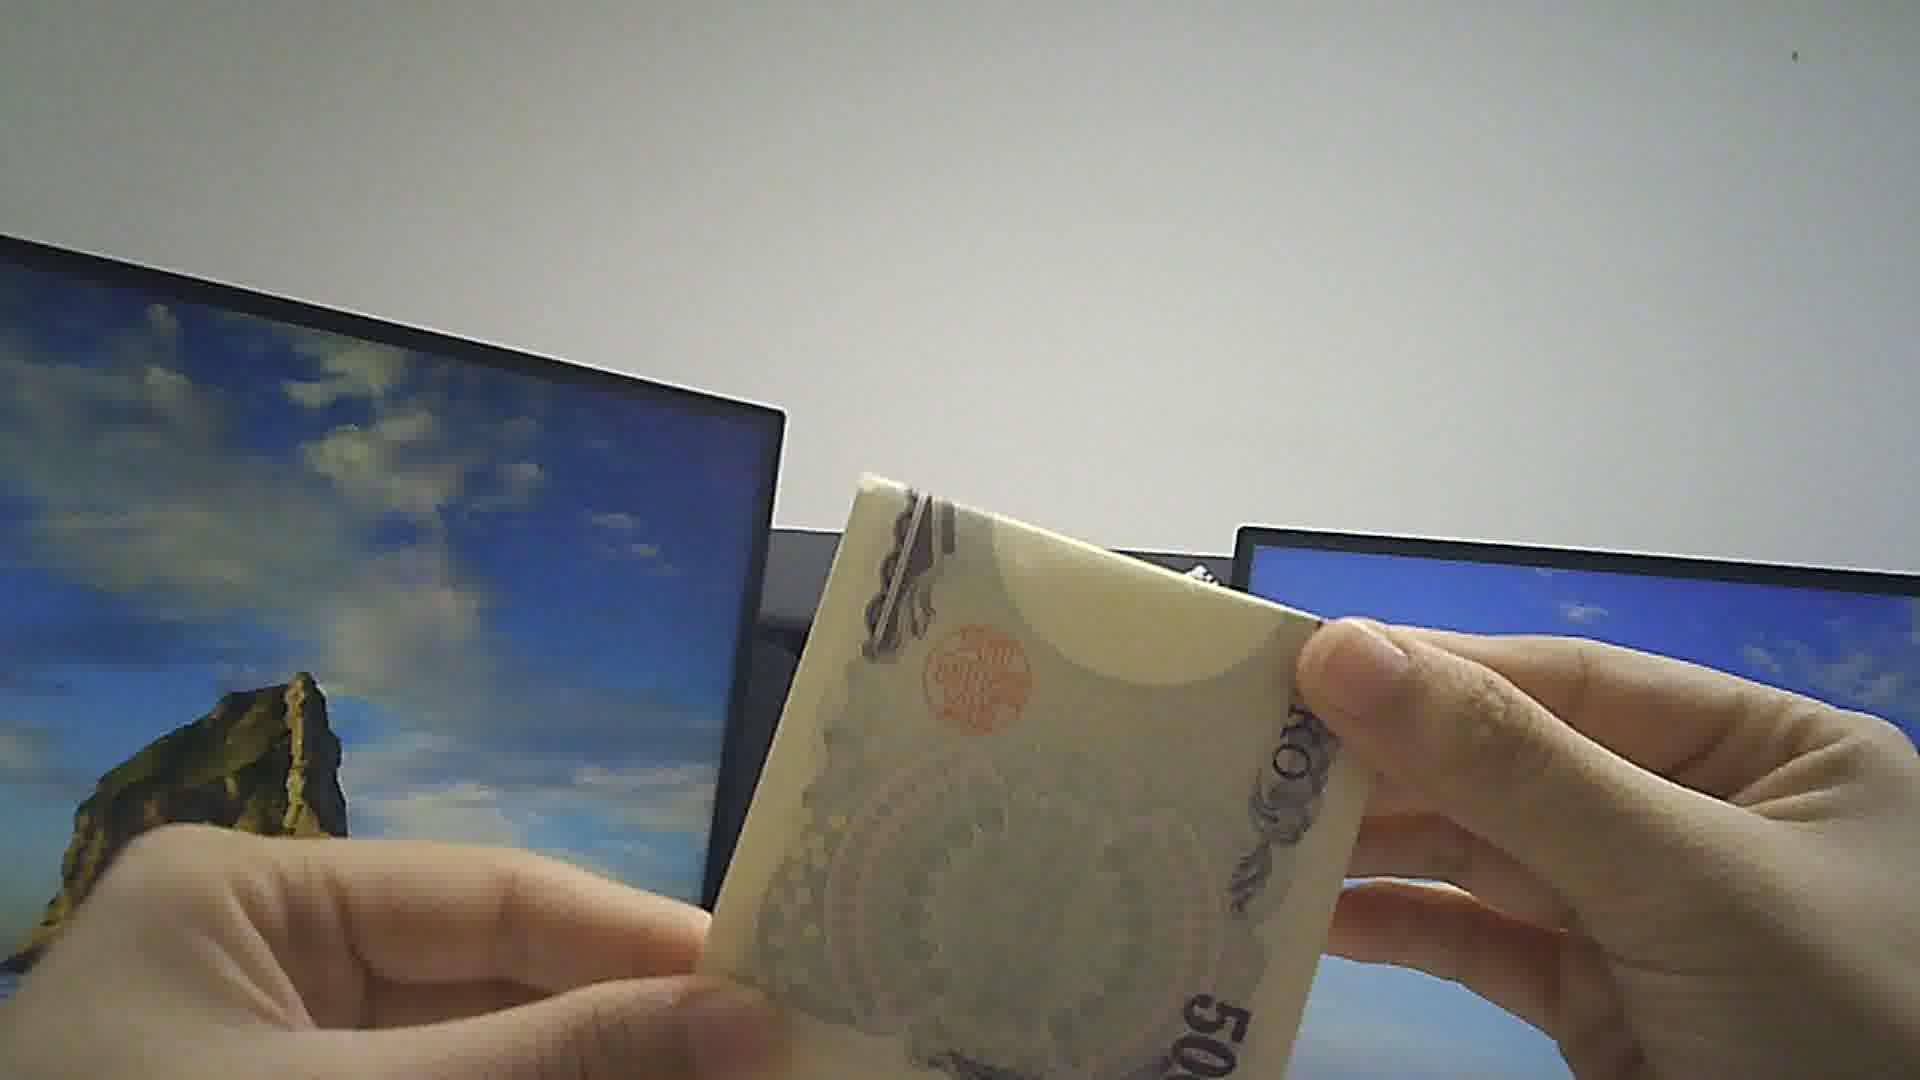5,000 Yen: (717, 464, 1379, 1079)
